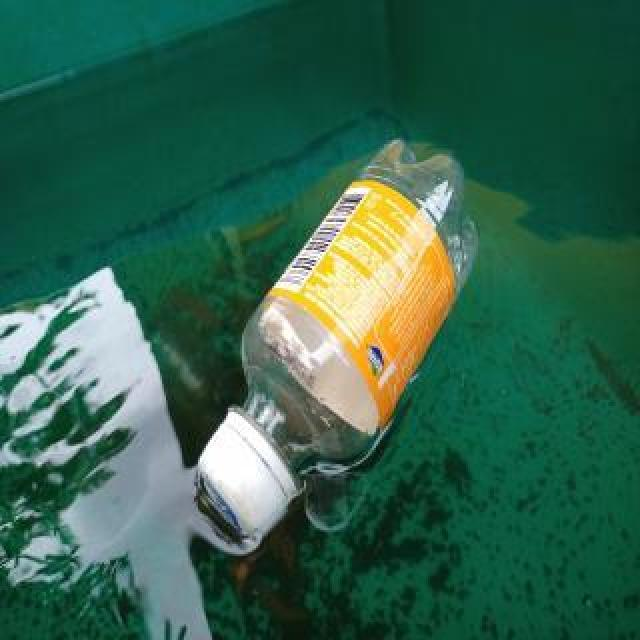bottle: (193, 132, 483, 542)
